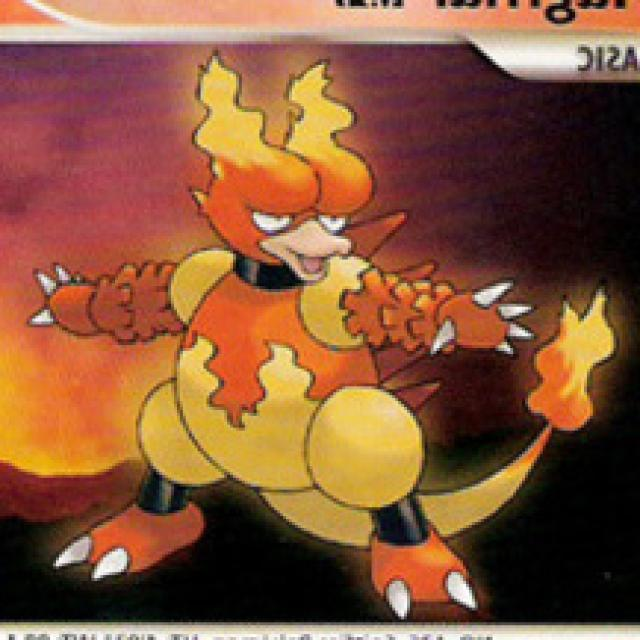Magmar: (46, 54, 524, 596)
